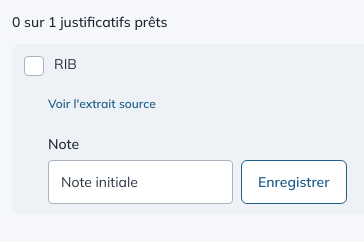
Scenario: PilotageRequiredDocsList (US-5.3) › échec réseau à la sauvegarde de la note → repli sur la note d'origine, message d'erreur visible
This screenshot has width=364, height=242.
Replace the text in the field labelled "Note" with "Note modifiée" at (140, 182), box [48,160,233,204]
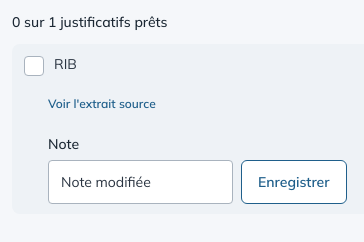
Click the button "Enregistrer".
click(294, 182)  # box [241,160,346,204]
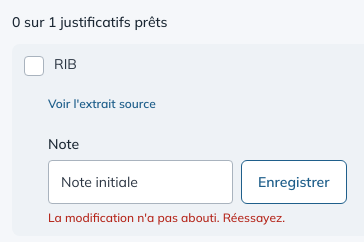
Expected: the field labelled "Note" holds "Note initiale", [48,160,233,204]
Expected: the text "La modification n'a pas abouti. Réessayez." is shown, [48,210,285,225]
